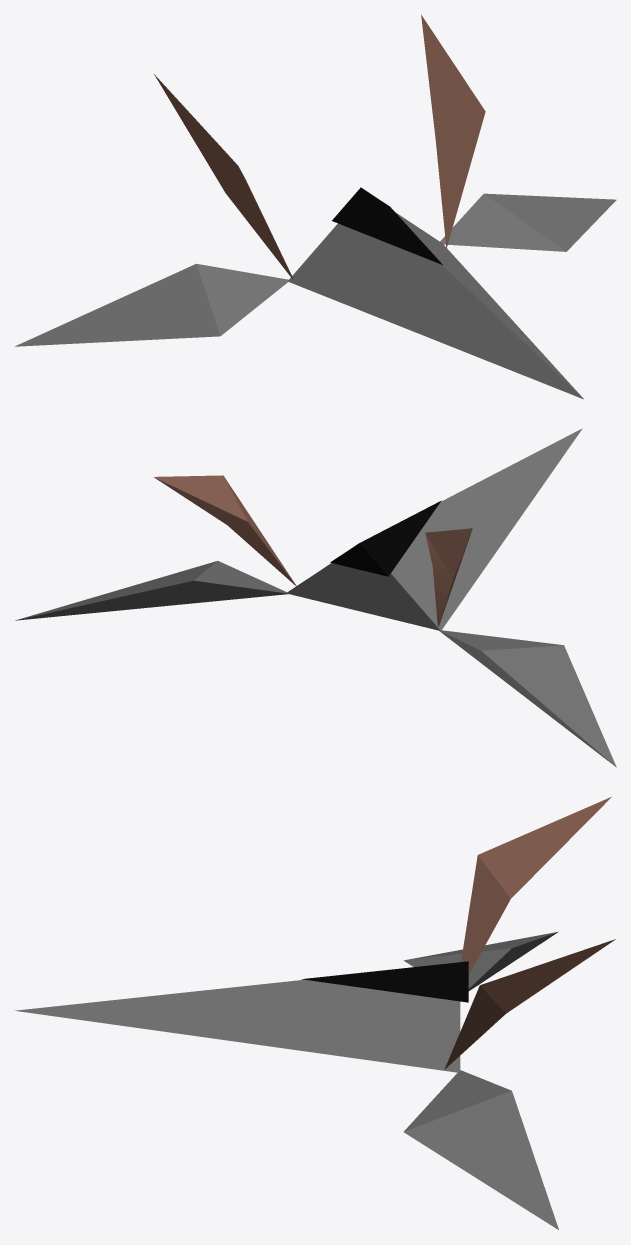
Rendered from StarFox2.fbx.
The picture shows the model from 3 angles, top to bottom: view 1: azimuth 30°, elevation 25°; view 2: azimuth 150°, elevation 25°; view 3: azimuth 270°, elevation 25°; orthographic projection.
Parts seen in each view (by area): view 1: pasted__pPyramid5; view 2: pasted__pPyramid5; view 3: pasted__pPyramid5.
Part boxes in pixels (box(x1,y1,x2,y2)): pasted__pPyramid5: box(15, 14, 616, 399); pasted__pPyramid5: box(15, 428, 616, 767); pasted__pPyramid5: box(15, 797, 615, 1229).
Bounding box in the file's own units: 3.88 × 1.32 × 3.31.
